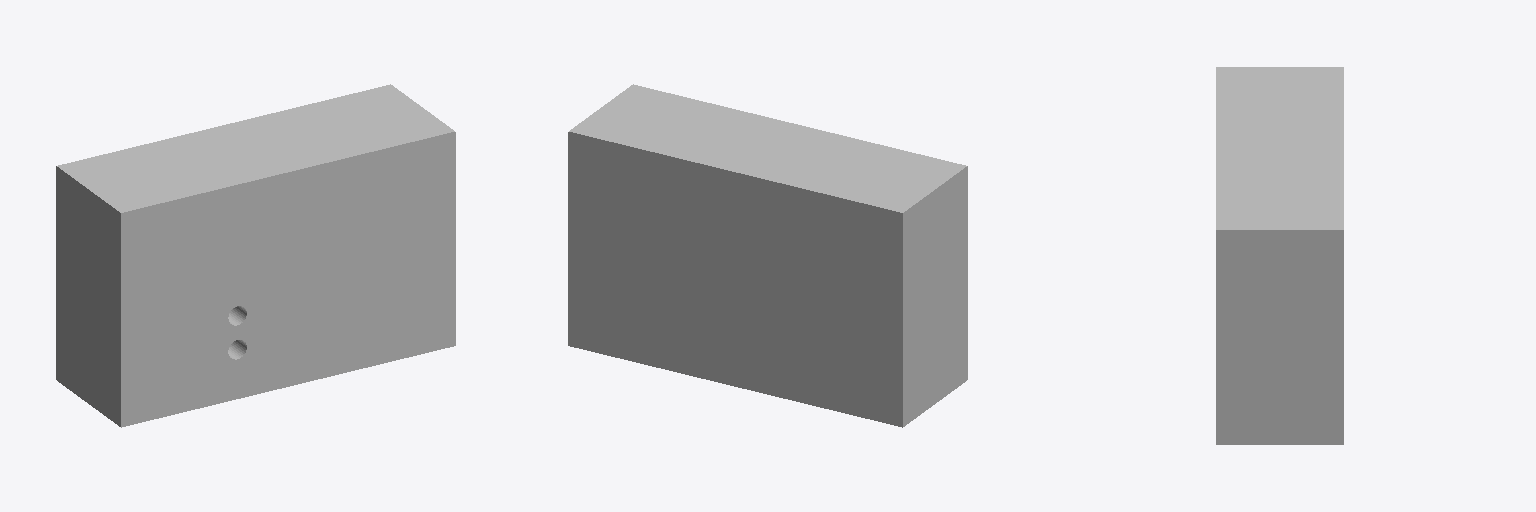
The model's file is col1.obj.
3 views of the same model, side by side, from view 1: azimuth 30°, elevation 25°; view 2: azimuth 150°, elevation 25°; view 3: azimuth 270°, elevation 25° (orthographic).
Visible parts, largest first — view 1: Körper1; view 2: Körper1; view 3: Körper1.
Part boxes in pixels (x1,y1,x2,y2): Körper1: (56,84,455,427); Körper1: (568,84,967,427); Körper1: (1216,67,1343,444).
Size of the model in its own units: 0.2546 by 0.156 by 0.085.